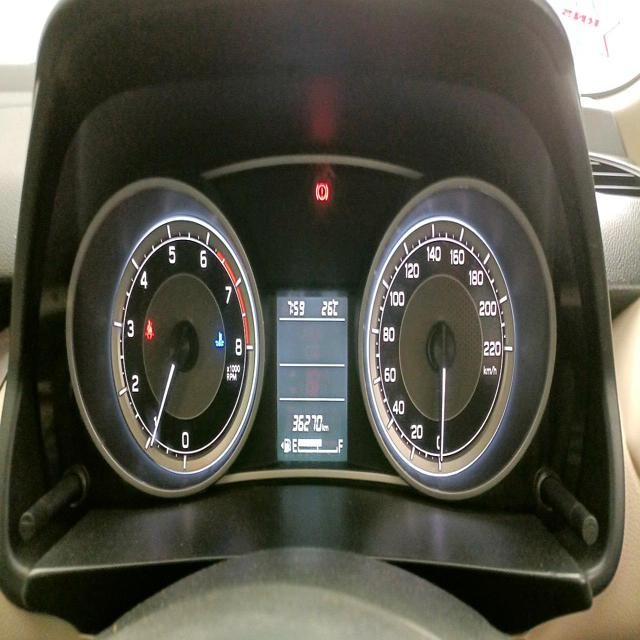odometer: (289, 411, 322, 436)
